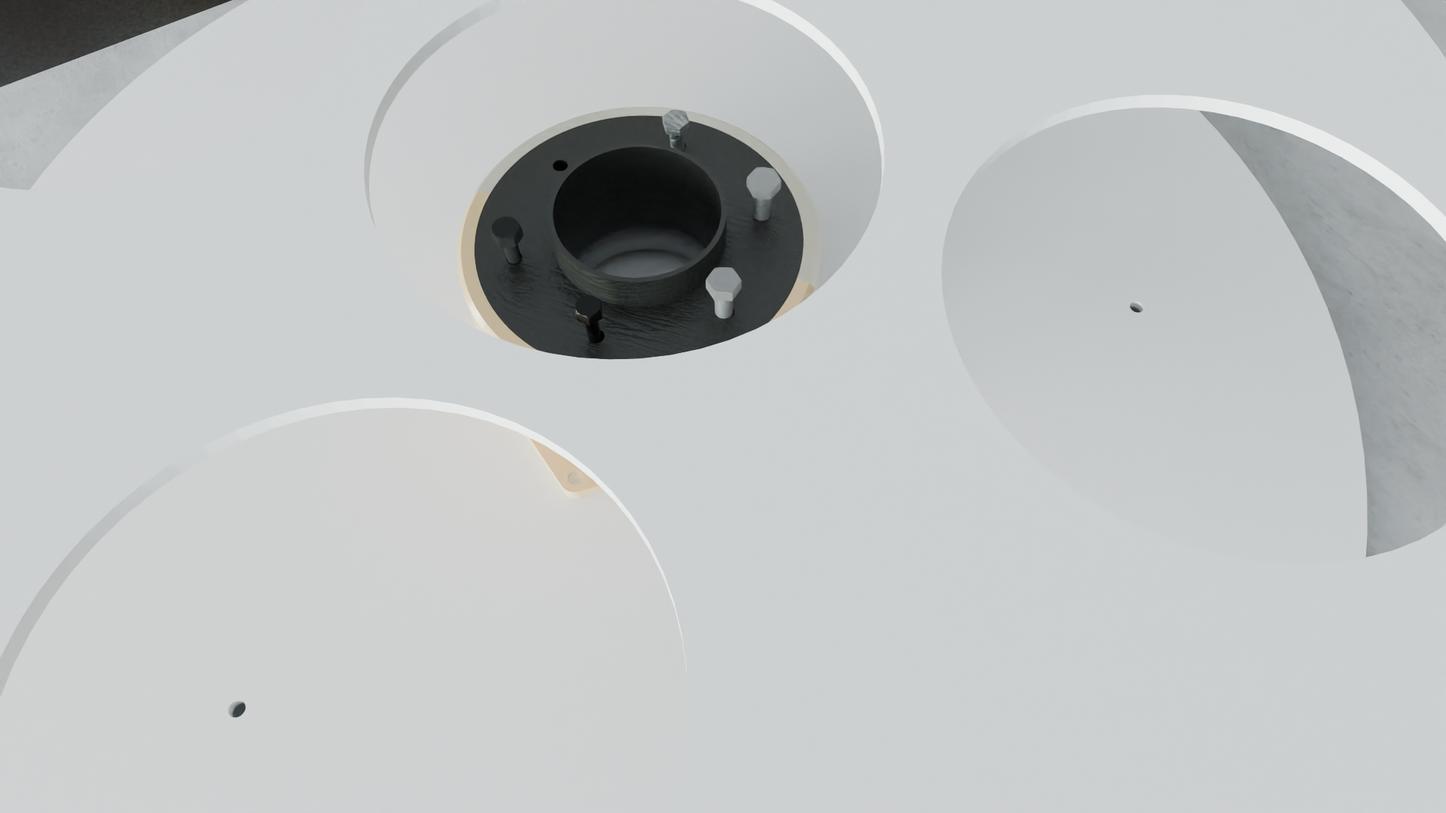bolt: (706, 267, 741, 294), (747, 167, 781, 191), (490, 217, 522, 241), (575, 295, 601, 319), (662, 110, 689, 129)
